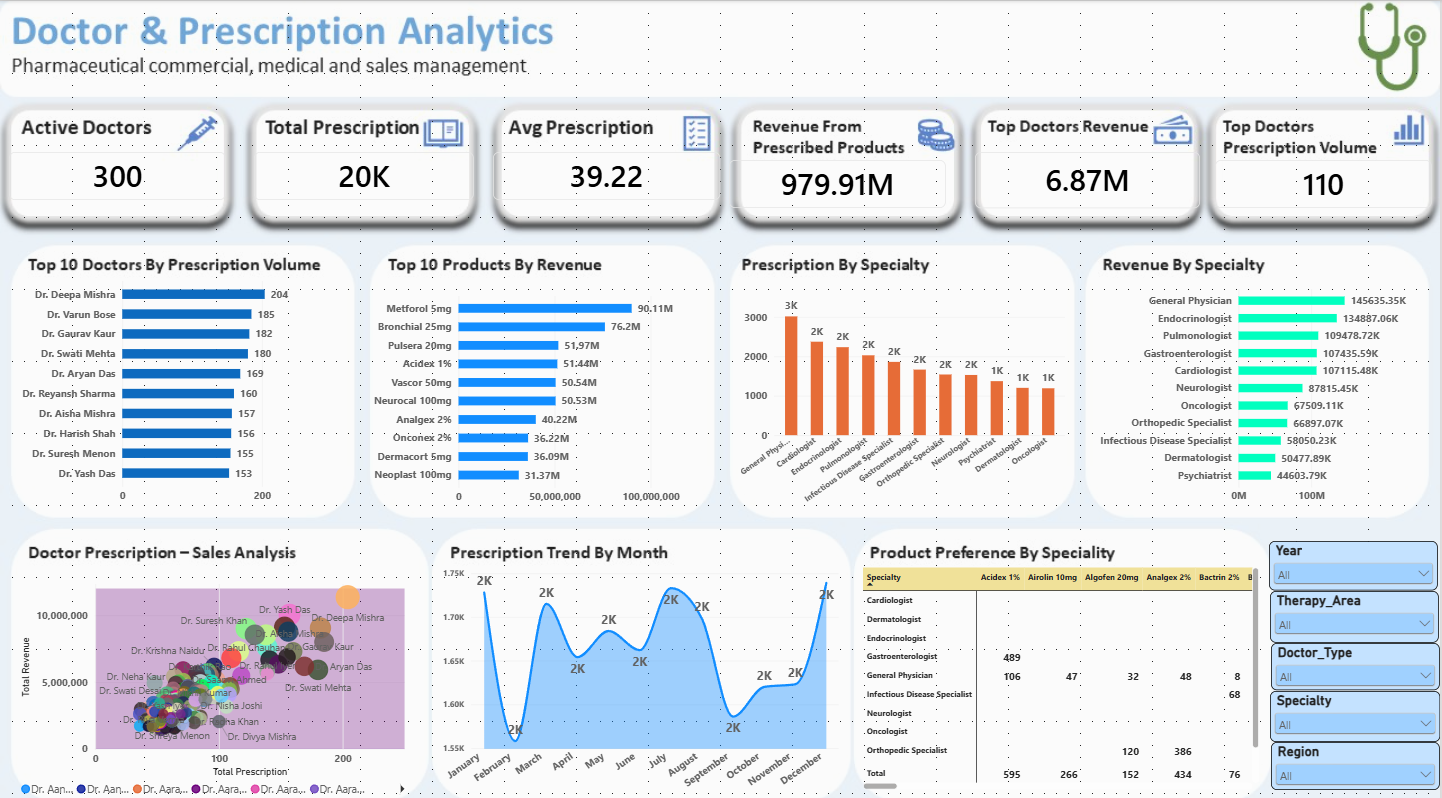

This screenshot's page, from the dashboard's own definition file:
{"tool":"powerbi","page":{"name":"Doctor & Prescription Analytics","canvas":[1920,1080],"ordinal":2},"visuals":[{"type":"card","fields":{"Values":["Doctors.Active Doctors"]},"box":[12,201.3,289.3,64],"z":0},{"type":"card","fields":{"Values":["Prescriptions.Avg Prescription"]},"box":[657.3,201.3,302.7,64],"z":1000},{"type":"card","fields":{"Values":["Sales.Total Revenue"]},"box":[972,212,289.3,64],"z":2000},{"type":"card","fields":{"Values":["Sales.Top Doctors Revenue"]},"box":[1300,201.3,300,74.7],"z":3000},{"type":"card","fields":{"Values":["Prescriptions.Top Doctors Prescription Volume"]},"box":[1619.7,212.6,289.4,64.5],"z":4000},{"type":"card","fields":{"Values":["Prescriptions.Total Prescription"]},"box":[338.7,201.6,293.5,64.5],"z":5000},{"type":"clusteredBarChart","fields":{"Category":["Doctors.Doctor_Name"],"Y":["Prescriptions.Total Prescription"]},"box":[12.6,352.5,458.3,336],"z":6000},{"type":"clusteredBarChart","fields":{"Category":["Products.Product_Name"],"Y":["Sales.Total Revenue"]},"box":[481.5,371.6,467.6,317.4],"z":7000},{"type":"columnChart","fields":{"Category":["Doctors.Specialty"],"Y":["Prescriptions.Total Prescription"]},"box":[972.6,371.4,464.3,317.9],"z":8000},{"type":"clusteredBarChart","fields":{"Category":["Doctors.Specialty"],"Y":["Sales.Total Revenue"]},"box":[1449.6,362.1,459.4,326.4],"z":9000},{"type":"scatterChart","fields":{"X":["Prescriptions.Total Prescription"],"Y":["Sales.Total Revenue"],"Size":["Sales.Total Unit Sold"],"Series":["Doctors.Doctor_Name"]},"box":[12.3,755.7,555.4,325],"z":10000},{"type":"areaChart","fields":{"Category":["Date.Date.Variation.Date Hierarchy.Month"],"Y":["Prescriptions.Total Prescription"]},"box":[567.8,740.6,566.4,340.1],"z":11000},{"type":"pivotTable","fields":{"Rows":["Doctors.Specialty"],"Columns":["Products.Product_Name"],"Values":["Prescriptions.Total Prescription"]},"box":[1134.7,741.2,560.3,325.8],"z":12000},{"type":"slicer","fields":{"Values":["Date.Date.Variation.Date Hierarchy.Year"]},"box":[1692,720,225,66.1],"z":12001},{"type":"slicer","fields":{"Values":["Doctors.Specialty"]},"box":[1693.3,920,226.7,68],"z":12002},{"type":"slicer","fields":{"Values":["Doctors.Doctor_Type"]},"box":[1694.7,856,225,63],"z":12003},{"type":"slicer","fields":{"Values":["Distributors.Region"]},"box":[1694.7,988,224.9,64.5],"z":12004},{"type":"slicer","fields":{"Values":["Products.Therapy_Area"]},"box":[1693.3,786.7,225,69.2],"z":12005}]}

Visuals, with their boxes in screenshot pixels (x1, y1, x2, y2), scaled from the page's 1920x1080 canvas onto the 1442x798 screenshot:
card - Doctors.Active Doctors: [left=9, top=149, right=226, bottom=196]
card - Prescriptions.Avg Prescription: [left=494, top=149, right=721, bottom=196]
card - Sales.Total Revenue: [left=730, top=157, right=947, bottom=204]
card - Sales.Top Doctors Revenue: [left=976, top=149, right=1202, bottom=204]
card - Prescriptions.Top Doctors Prescription Volume: [left=1216, top=157, right=1434, bottom=205]
card - Prescriptions.Total Prescription: [left=254, top=149, right=475, bottom=197]
clusteredBarChart - Doctors.Doctor_Name x Prescriptions.Total Prescription: [left=9, top=260, right=354, bottom=509]
clusteredBarChart - Products.Product_Name x Sales.Total Revenue: [left=362, top=275, right=713, bottom=509]
columnChart - Doctors.Specialty x Prescriptions.Total Prescription: [left=730, top=274, right=1079, bottom=509]
clusteredBarChart - Doctors.Specialty x Sales.Total Revenue: [left=1089, top=268, right=1434, bottom=509]
scatterChart - Prescriptions.Total Prescription x Sales.Total Revenue: [left=9, top=558, right=426, bottom=797]
areaChart - Date.Date.Variation.Date Hierarchy.Month x Prescriptions.Total Prescription: [left=426, top=547, right=852, bottom=797]
pivotTable - Doctors.Specialty x Products.Product_Name: [left=852, top=548, right=1273, bottom=788]
slicer - Date.Date.Variation.Date Hierarchy.Year: [left=1271, top=532, right=1440, bottom=581]
slicer - Doctors.Specialty: [left=1272, top=680, right=1441, bottom=730]
slicer - Doctors.Doctor_Type: [left=1273, top=632, right=1441, bottom=679]
slicer - Distributors.Region: [left=1273, top=730, right=1441, bottom=778]
slicer - Products.Therapy_Area: [left=1272, top=581, right=1441, bottom=632]
